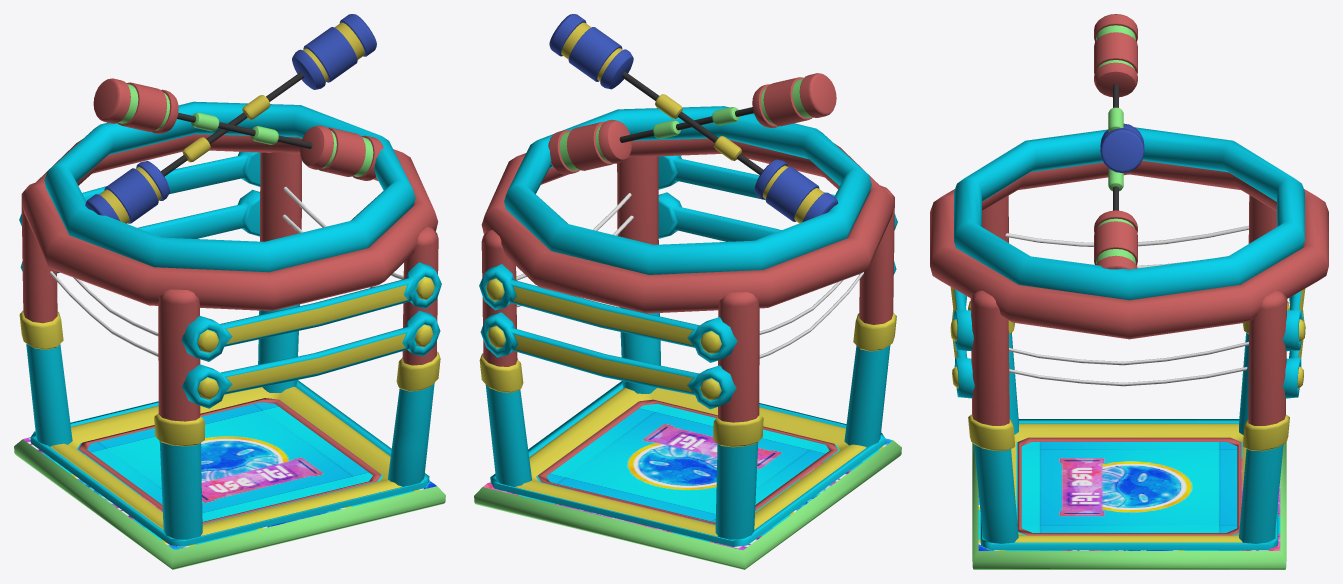
The model's file is ring.fbx.
The picture shows the model from 3 angles, left to right: view 1: azimuth 30°, elevation 25°; view 2: azimuth 150°, elevation 25°; view 3: azimuth 270°, elevation 25°; orthographic projection.
Visible parts, largest first — view 1: mainRing, center, churrasosTop; view 2: mainRing, center, churrasosTop; view 3: mainRing, center, churrasosTop.
Part boxes in pixels (x1,y1,x2,y2): mainRing: [14, 101, 445, 569]; center: [23, 402, 436, 549]; churrasosTop: [85, 14, 383, 223]; mainRing: [474, 106, 901, 569]; center: [483, 403, 892, 550]; churrasosTop: [548, 14, 838, 223]; mainRing: [930, 127, 1328, 569]; center: [978, 439, 1280, 550]; churrasosTop: [1094, 14, 1144, 269].
Bounding box in the file's own units: 34.87 × 39.52 × 32.96.
9 materials, 1 textured.
